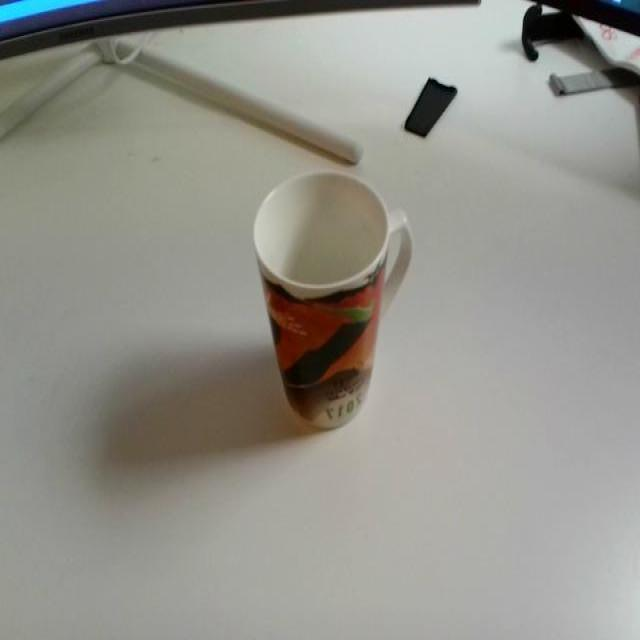cup: (241, 160, 420, 442)
